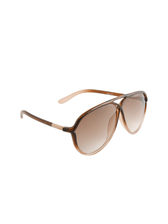glasses: (16, 88, 153, 153)
